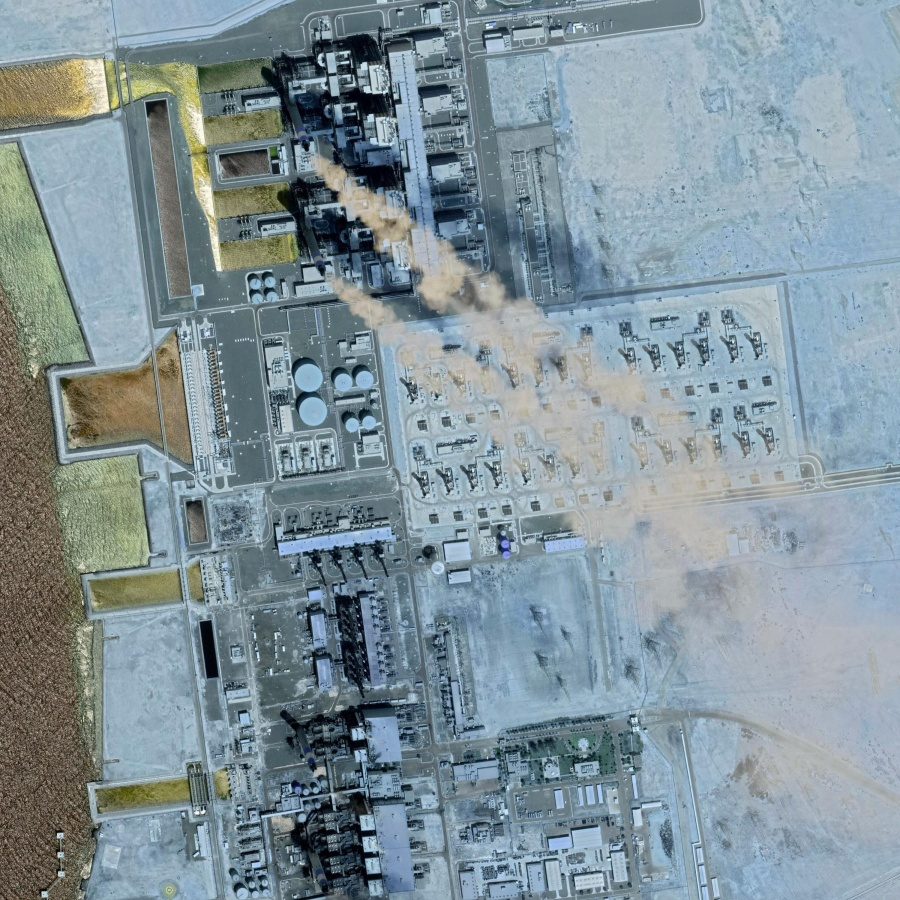PowerPlant: (182, 20, 625, 428), (227, 582, 449, 898)
